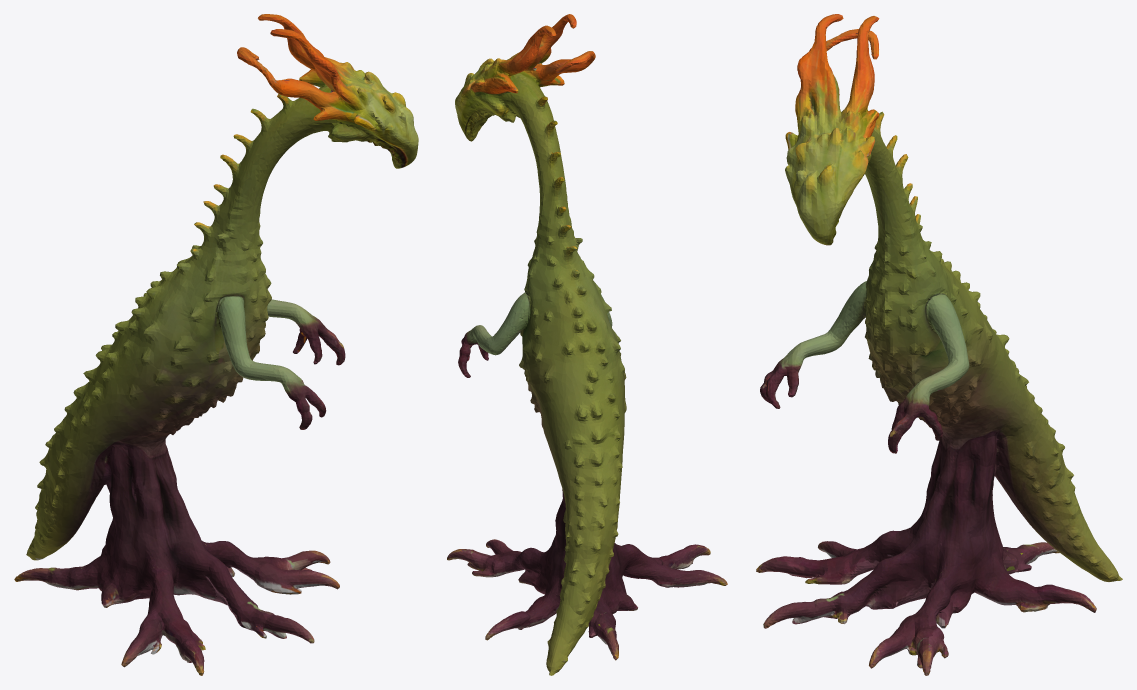
File: plant_carnivoreplant.glb
The picture shows the model from 3 angles, left to right: view 1: azimuth 30°, elevation 25°; view 2: azimuth 150°, elevation 25°; view 3: azimuth 270°, elevation 25°; orthographic projection. The views are drawn at different scales.
Parts seen in each view (by area): view 1: textured_mesh.obj; view 2: textured_mesh.obj; view 3: textured_mesh.obj.
Boxes of the visible parts, x1,y1,x2,y2 form: textured_mesh.obj: (14, 14, 418, 675); textured_mesh.obj: (447, 14, 727, 675); textured_mesh.obj: (756, 14, 1122, 675).
Bounding box in the file's own units: 1.03 × 1.99 × 1.06.
1 material, 1 textured.
